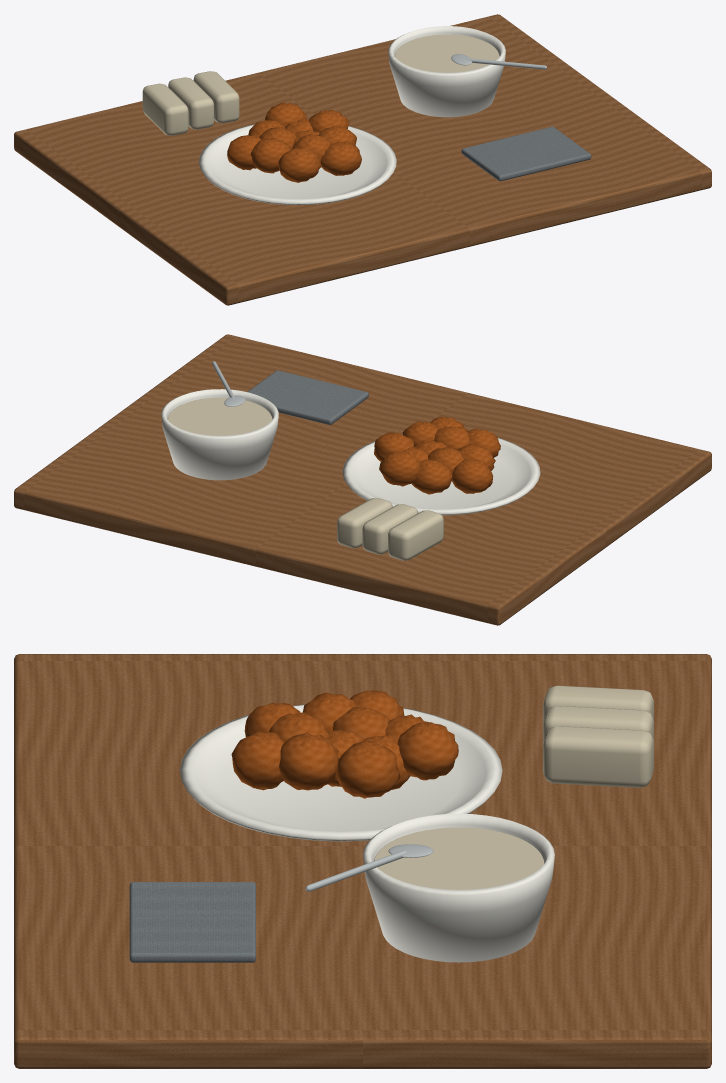
The model's file is akara-breakfast-pack.glb.
3 renders of one model, top to bottom at view 1: azimuth 30°, elevation 25°; view 2: azimuth 150°, elevation 25°; view 3: azimuth 270°, elevation 25°, orthographic. The views are drawn at different scales.
Visible parts, largest first — view 1: Breakfast tabletop, Bowl / open inner wall, Bowl / open inner wall.001, Folded napkin, Pap / breakfast serving, Bread slice, Bread slice.001, Bread slice.002, Akara / bean fritter.007, Akara / bean fritter.010, Akara / bean fritter.004, Akara / bean fritter.009 (+4 smaller); view 2: Breakfast tabletop, Bowl / open inner wall, Bowl / open inner wall.001, Folded napkin, Pap / breakfast serving, Bread slice, Bread slice.001, Bread slice.002, Akara / bean fritter.009, Akara / bean fritter.011, Akara / bean fritter.006, Akara / bean fritter.008 (+5 smaller); view 3: Breakfast tabletop, Bowl / open inner wall, Bowl / open inner wall.001, Folded napkin, Pap / breakfast serving, Bread slice.002, Akara / bean fritter.008, Akara / bean fritter.005, Akara / bean fritter.011, Akara / bean fritter.010, Bread slice.001, Bread slice (+7 smaller).
Part boxes in pixels (left/top/right/bottom): Breakfast tabletop: left=14, top=14, right=711, bottom=305; Bowl / open inner wall: left=199, top=124, right=396, bottom=205; Bowl / open inner wall.001: left=388, top=26, right=505, bottom=117; Folded napkin: left=461, top=126, right=591, bottom=181; Pap / breakfast serving: left=394, top=34, right=499, bottom=72; Bread slice: left=142, top=83, right=188, bottom=135; Bread slice.001: left=168, top=77, right=213, bottom=129; Bread slice.002: left=193, top=71, right=239, bottom=123; Akara / bean fritter.007: left=278, top=147, right=321, bottom=182; Akara / bean fritter.010: left=321, top=141, right=361, bottom=175; Akara / bean fritter.004: left=250, top=138, right=290, bottom=173; Akara / bean fritter.009: left=227, top=135, right=260, bottom=170; Breakfast tabletop: left=14, top=334, right=711, bottom=625; Bowl / open inner wall: left=342, top=433, right=540, bottom=515; Bowl / open inner wall.001: left=161, top=389, right=278, bottom=480; Folded napkin: left=247, top=370, right=368, bottom=424; Pap / breakfast serving: left=167, top=397, right=272, bottom=435; Bread slice: left=388, top=510, right=443, bottom=560; Bread slice.001: left=362, top=504, right=418, bottom=554; Bread slice.002: left=337, top=497, right=392, bottom=548; Akara / bean fritter.009: left=451, top=459, right=493, bottom=493; Akara / bean fritter.011: left=379, top=451, right=419, bottom=486; Akara / bean fritter.006: left=412, top=459, right=452, bottom=494; Akara / bean fritter.008: left=374, top=432, right=414, bottom=461; Breakfast tabletop: left=14, top=654, right=711, bottom=1068; Bowl / open inner wall: left=179, top=704, right=502, bottom=841; Bowl / open inner wall.001: left=363, top=813, right=554, bottom=962; Folded napkin: left=129, top=882, right=255, bottom=962; Pap / breakfast serving: left=374, top=827, right=544, bottom=889; Bread slice.002: left=543, top=726, right=653, bottom=787; Akara / bean fritter.008: left=336, top=740, right=400, bottom=798; Akara / bean fritter.005: left=279, top=732, right=338, bottom=790; Akara / bean fritter.011: left=397, top=722, right=458, bottom=780; Akara / bean fritter.010: left=231, top=731, right=283, bottom=790; Bread slice.001: left=543, top=706, right=653, bottom=744; Bread slice: left=543, top=685, right=653, bottom=724.
Bounding box in the file's own units: 2.1 × 0.3127 × 1.6.
Materials: 6 (3 with a texture image).
